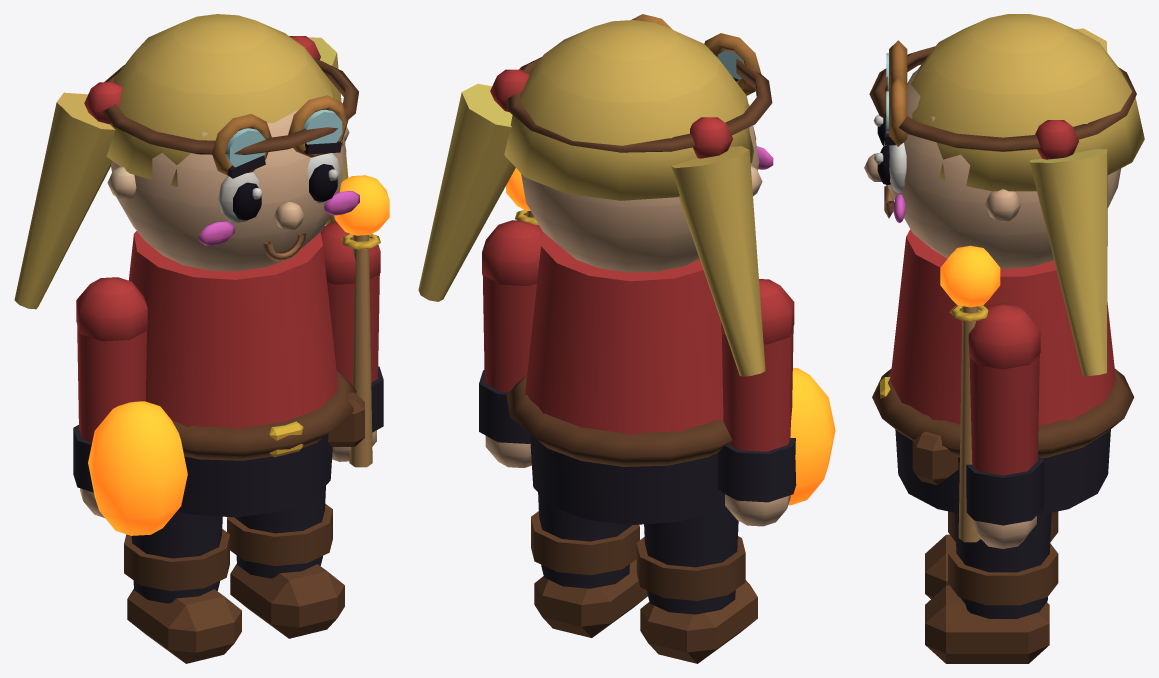
The model's file is hero_fizz.glb.
3 views of the same model, side by side, from view 1: azimuth 30°, elevation 25°; view 2: azimuth 150°, elevation 25°; view 3: azimuth 270°, elevation 25° (orthographic). The views are drawn at different scales.
Visible parts, largest first — view 1: body_t0_palette, legl_t0_palette, legr_t0_palette, arml_t0_palette, arml_t0_fire, armr_t0_palette, armr_t0_fire; view 2: body_t0_palette, legl_t0_palette, arml_t0_palette, legr_t0_palette, armr_t0_palette, arml_t0_fire; view 3: body_t0_palette, armr_t0_palette, legr_t0_palette, armr_t0_fire, legl_t0_palette.
Part boxes in pixels (left/top/right/bottom): body_t0_palette: left=14, top=14, right=364, bottom=517; legl_t0_palette: left=124, top=511, right=241, bottom=663; legr_t0_palette: left=227, top=486, right=344, bottom=638; arml_t0_palette: left=73, top=277, right=147, bottom=517; arml_t0_fire: left=88, top=401, right=187, bottom=535; armr_t0_palette: left=320, top=221, right=383, bottom=467; armr_t0_fire: left=334, top=175, right=389, bottom=235; body_t0_palette: left=418, top=14, right=773, bottom=525; legl_t0_palette: left=636, top=491, right=757, bottom=663; arml_t0_palette: left=718, top=279, right=796, bottom=526; legr_t0_palette: left=531, top=492, right=647, bottom=637; armr_t0_palette: left=479, top=209, right=543, bottom=467; arml_t0_fire: left=788, top=368, right=835, bottom=505; body_t0_palette: left=864, top=14, right=1144, bottom=515; armr_t0_palette: left=949, top=303, right=1043, bottom=548; legr_t0_palette: left=925, top=512, right=1058, bottom=663; armr_t0_fire: left=940, top=245, right=1000, bottom=307; legl_t0_palette: left=925, top=511, right=1058, bottom=598.
Bounding box in the file's own units: 0.2977 × 0.508 × 0.214.
